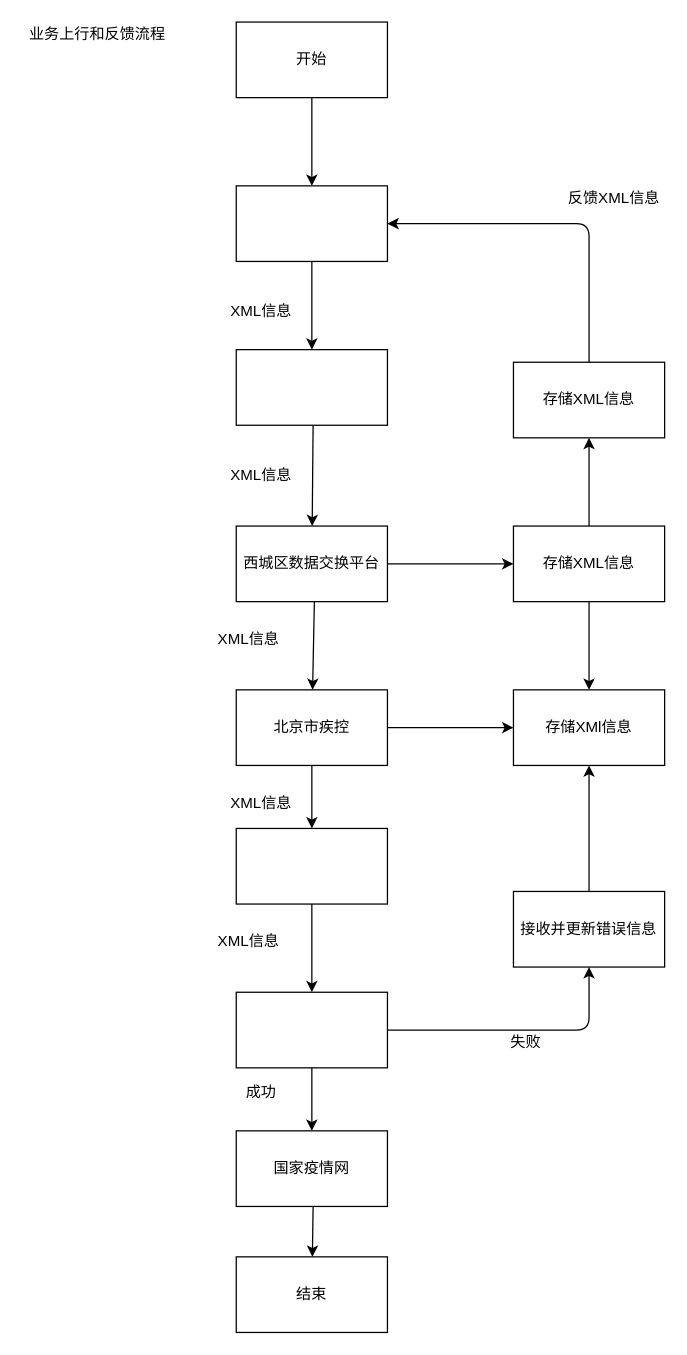
Image size: 687x1355. Some labels were removed from this diagram. The centre of each missing label's shape, as x and y in pixels:
"医疗卫生机构系统" goes at point (311, 223).
"工具包" goes at point (311, 865).
"校验" goes at point (311, 1029).
"西城区数据共享与交换系统" goes at point (311, 386).
